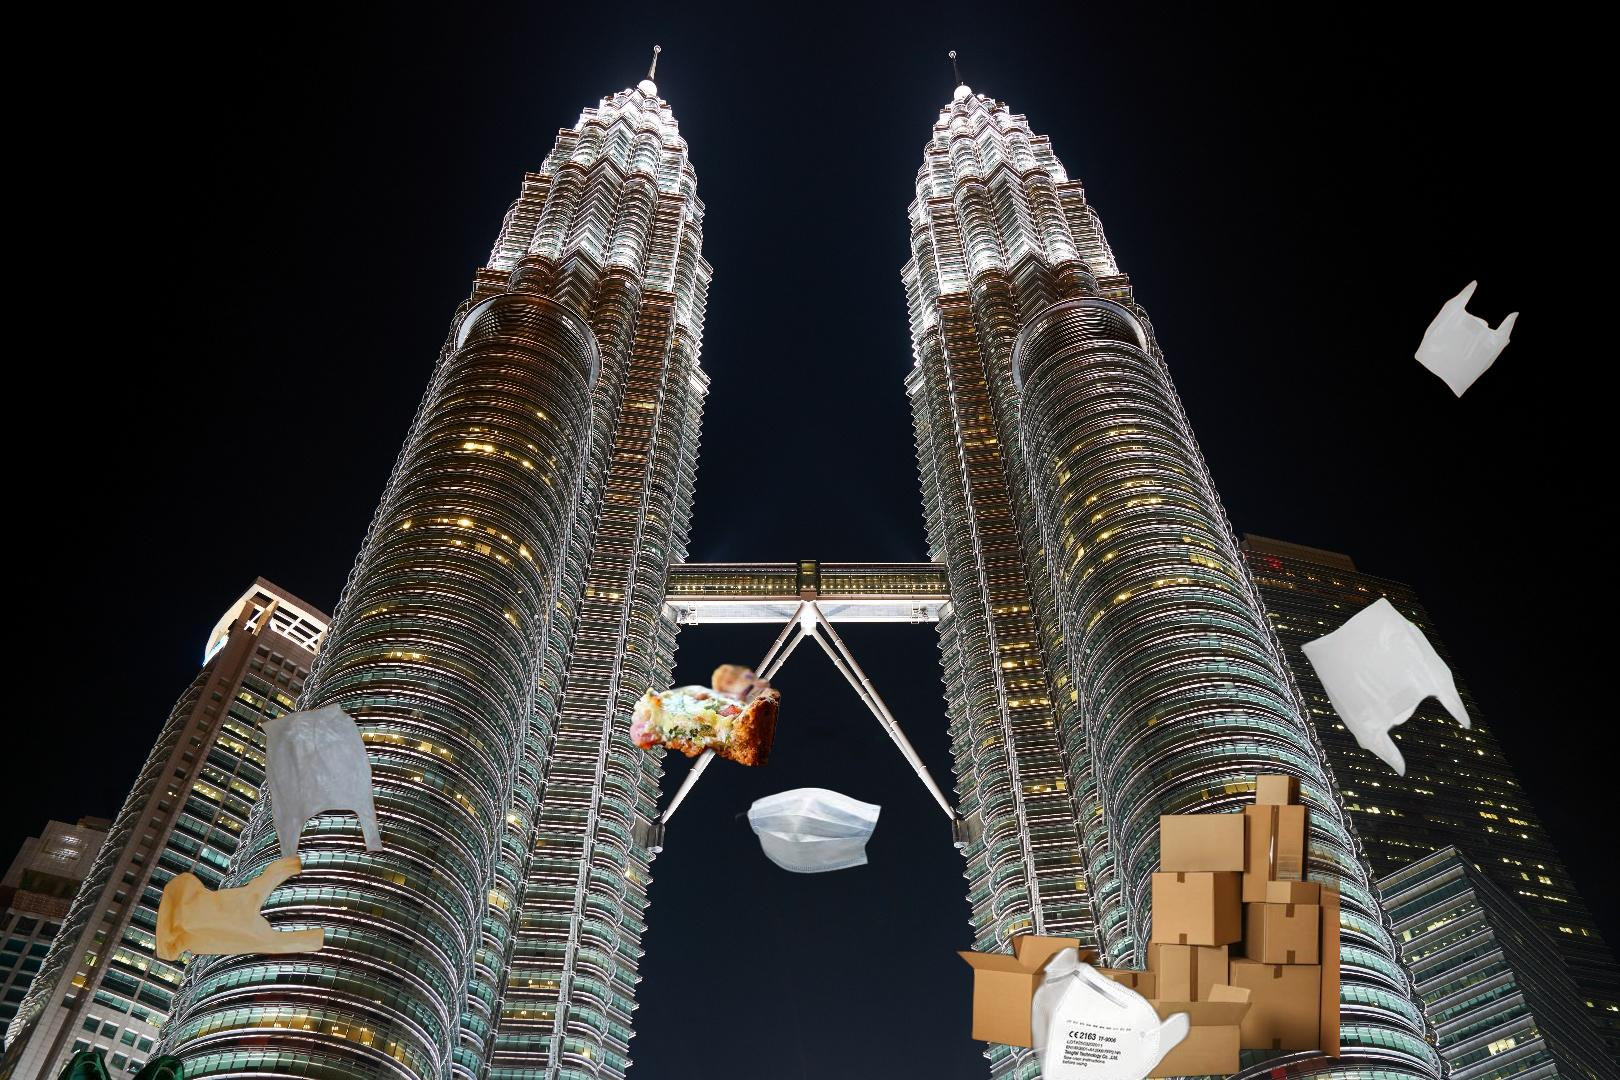biological: (627, 661, 868, 770)
plastic-bag: (152, 700, 385, 976), (1298, 594, 1475, 824), (1413, 277, 1520, 401)
shoes: (45, 1052, 187, 1080)
trash: (1028, 943, 1192, 1080), (732, 785, 884, 876)
trashbox-cardboard: (952, 771, 1340, 1080)
